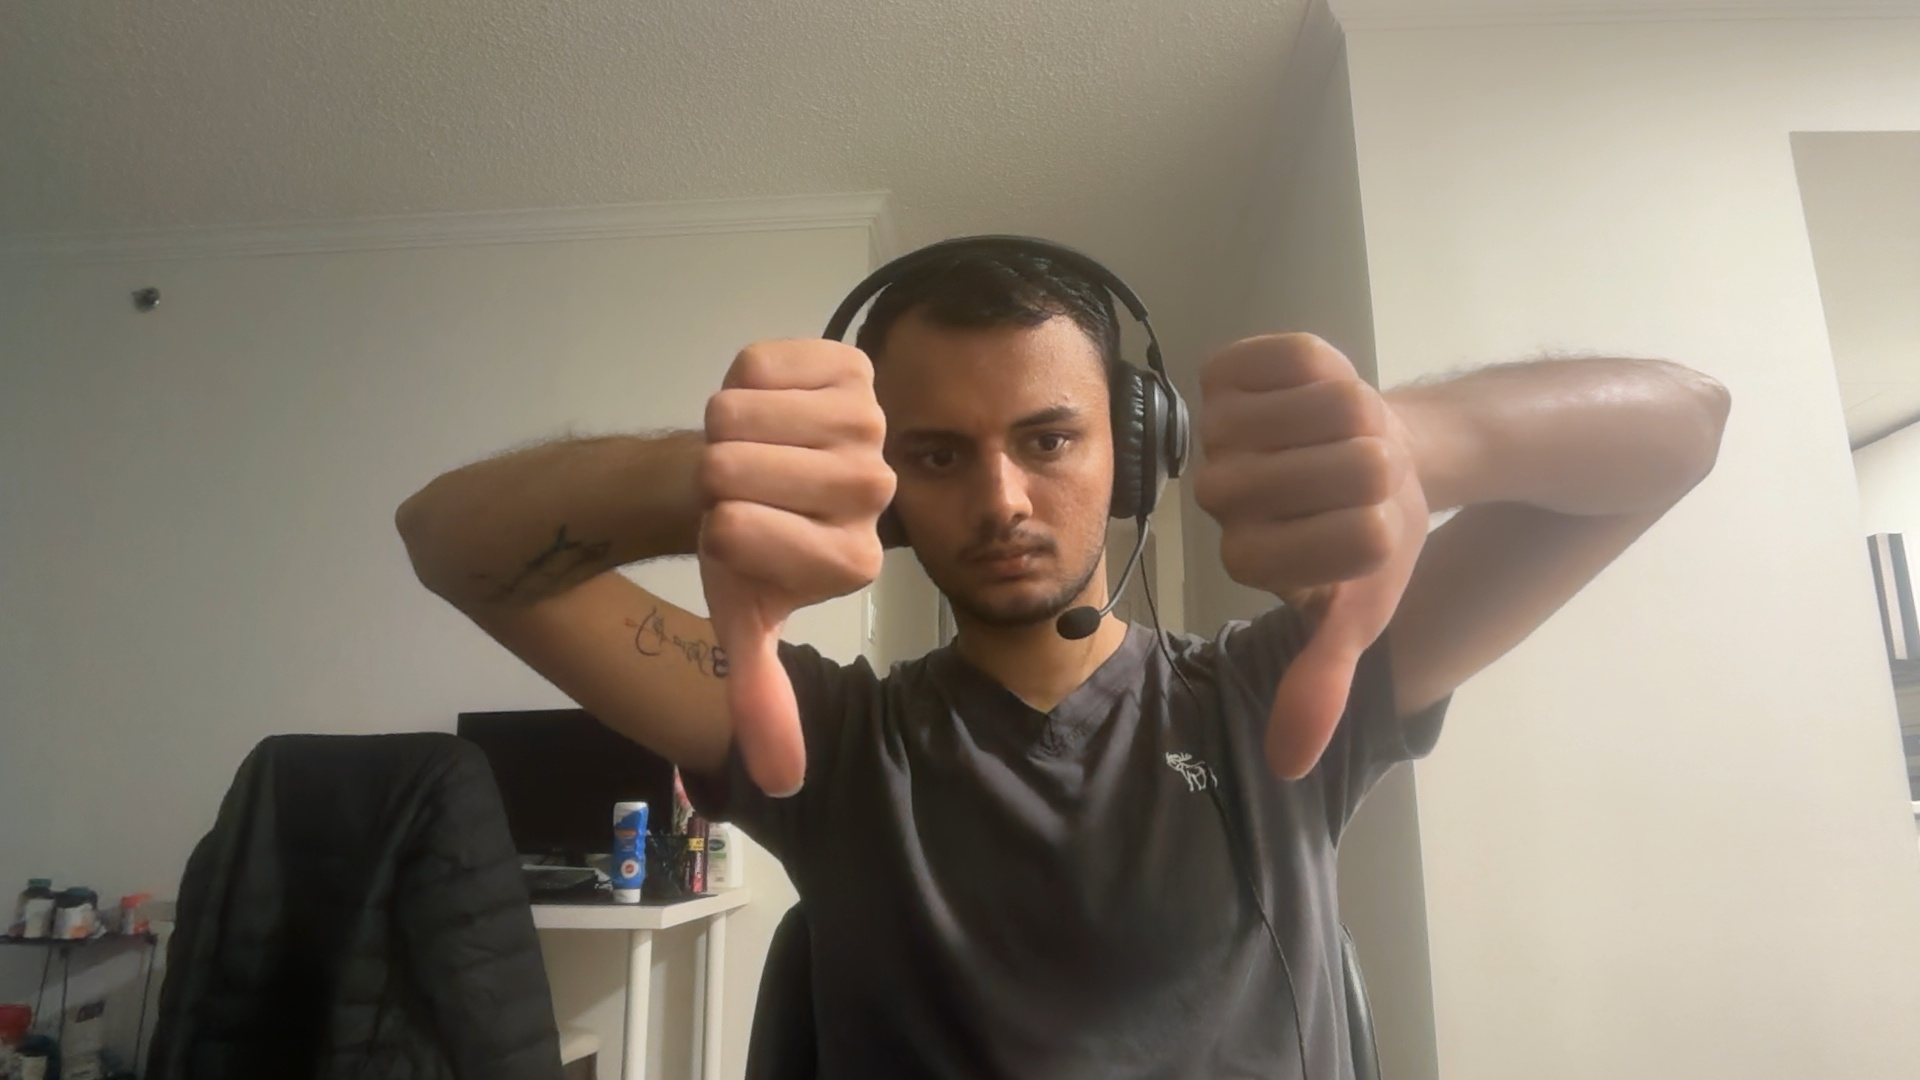thumbsdown: (1192, 328, 1427, 781)
